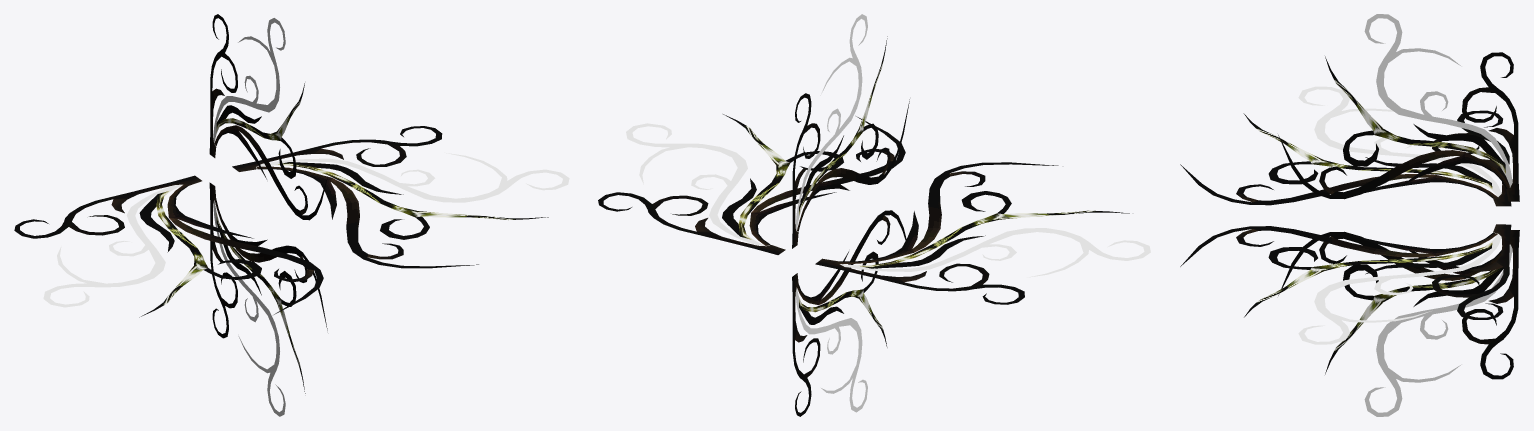
Rendered from tx_dancer_tianlaiyuezhang_fire.obj.
3 renders of one model, left to right at view 1: azimuth 30°, elevation 25°; view 2: azimuth 150°, elevation 25°; view 3: azimuth 270°, elevation 25°, orthographic. The views are drawn at different scales.
Visible parts, largest first — view 1: xiantiao; view 2: xiantiao; view 3: xiantiao.
Boxes of the visible parts, x1,y1,x2,y2 form: xiantiao: (14, 14, 569, 416); xiantiao: (598, 14, 1150, 416); xiantiao: (1180, 14, 1519, 416).
Size of the model in its own units: 203 by 148 by 113.
4 materials, 4 textured.
